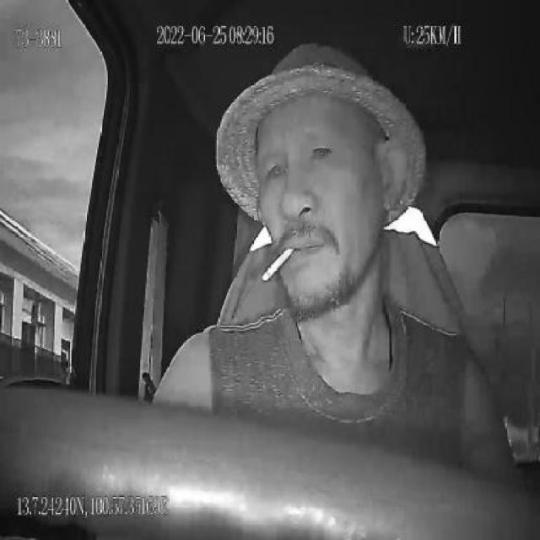smoking: (262, 247, 296, 283)
